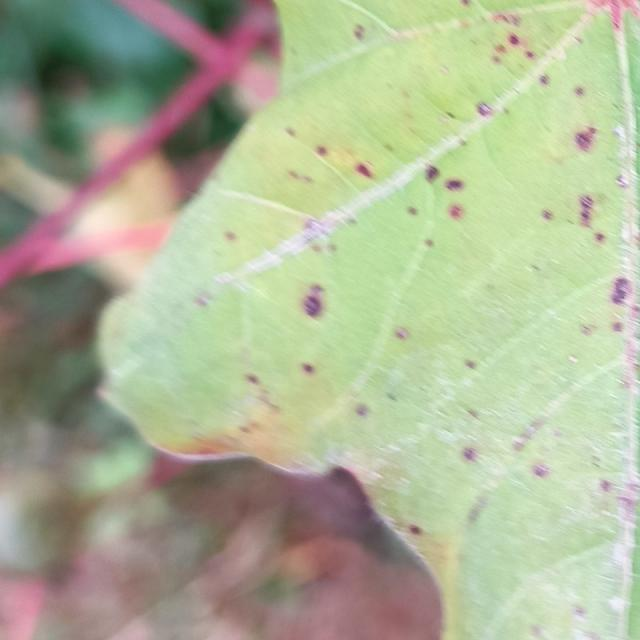Bacterial_Blight: (282, 276, 336, 328), (293, 213, 345, 259), (239, 371, 282, 411), (512, 414, 551, 451), (609, 275, 632, 306), (573, 126, 598, 153), (467, 495, 491, 523), (491, 10, 524, 26), (578, 194, 596, 222), (618, 492, 639, 513), (288, 169, 314, 184), (447, 203, 465, 220), (355, 162, 373, 178), (424, 164, 440, 182), (302, 217, 319, 232), (477, 102, 494, 117), (445, 178, 463, 192), (462, 447, 478, 462), (533, 464, 550, 478), (572, 604, 586, 618), (615, 174, 629, 188), (194, 294, 209, 307), (353, 24, 365, 40), (512, 438, 525, 452), (301, 362, 315, 375), (355, 404, 369, 417), (395, 327, 408, 340), (599, 479, 612, 492), (508, 33, 521, 46), (245, 373, 259, 385), (580, 324, 594, 336), (224, 230, 237, 242), (611, 321, 624, 333), (466, 408, 479, 420), (531, 624, 543, 637), (541, 209, 553, 221), (494, 43, 506, 55), (539, 73, 550, 86), (315, 145, 327, 156), (573, 86, 585, 97), (594, 232, 606, 243), (409, 524, 421, 535), (386, 391, 398, 402), (464, 359, 476, 369), (407, 206, 418, 216), (285, 127, 296, 137), (424, 238, 434, 248), (445, 111, 456, 120), (525, 50, 535, 59), (491, 55, 500, 64)
Cotton: (101, 0, 639, 639)
